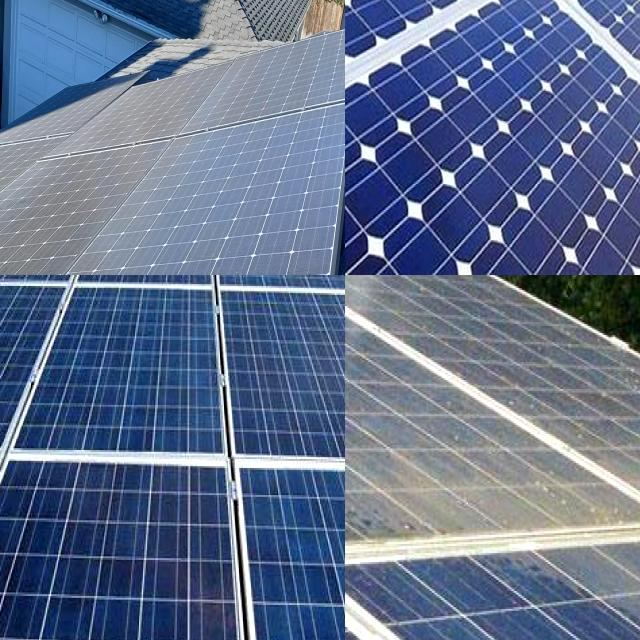crack: (345, 0, 640, 275), (0, 408, 298, 640), (0, 275, 287, 512), (345, 0, 559, 218), (201, 275, 345, 491), (378, 0, 640, 97), (223, 439, 345, 640), (0, 275, 109, 493), (507, 0, 640, 171), (206, 275, 345, 325)
dust: (471, 538, 640, 640), (345, 463, 588, 531), (496, 349, 640, 462), (248, 105, 344, 228), (116, 136, 228, 241), (12, 158, 106, 244), (345, 326, 404, 443), (106, 92, 211, 156), (372, 382, 446, 472), (392, 275, 481, 344), (215, 235, 328, 275), (243, 52, 345, 92), (20, 106, 90, 151), (107, 246, 209, 275), (0, 254, 81, 275), (0, 167, 23, 222), (0, 238, 32, 275)
